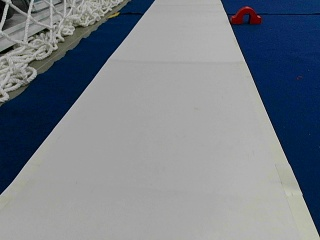bridge: (231, 6, 261, 23)
